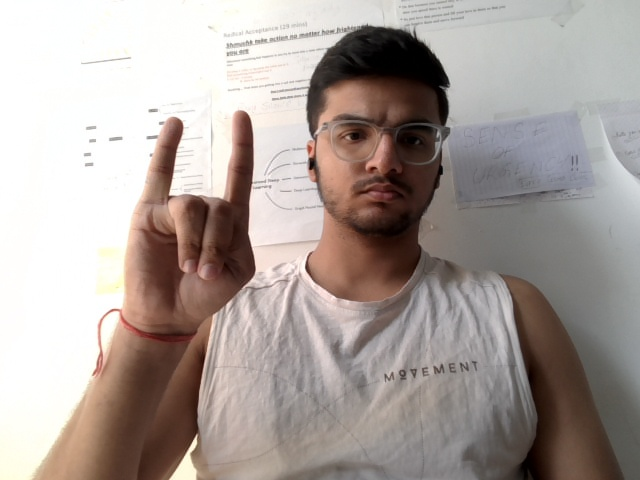iloveyou: (102, 89, 274, 370)
